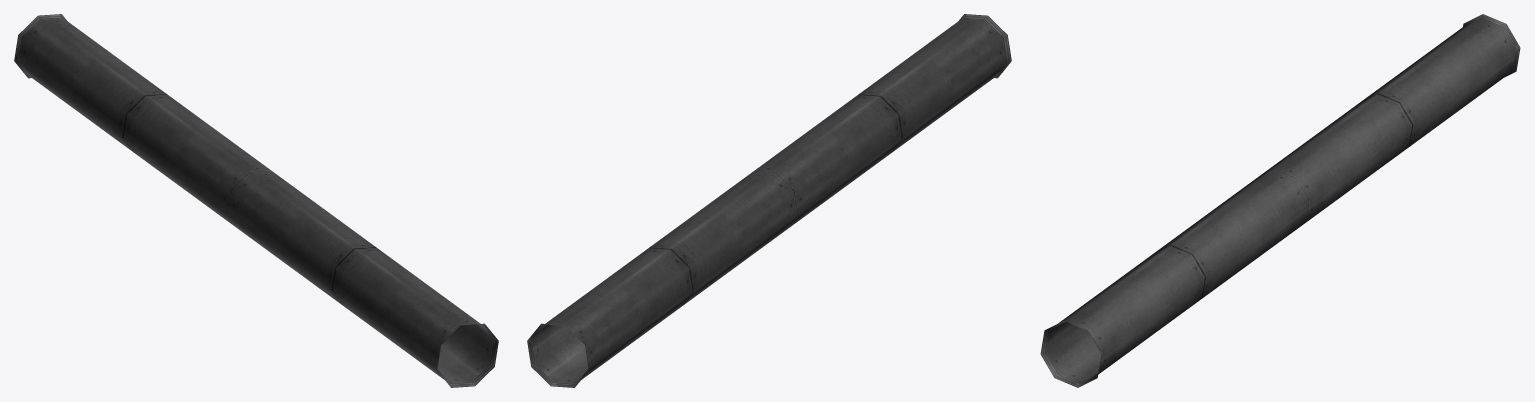
File: ControlRoom_Pipe_1.fbx
The picture shows the model from 3 angles, left to right: view 1: azimuth 30°, elevation 25°; view 2: azimuth 150°, elevation 25°; view 3: azimuth 330°, elevation 25°; orthographic projection.
Parts seen in each view (by area): view 1: ControlRoom_Pipe_1; view 2: ControlRoom_Pipe_1; view 3: ControlRoom_Pipe_1.
Part boxes in pixels (x1,y1,x2,y2): ControlRoom_Pipe_1: [14, 14, 498, 387]; ControlRoom_Pipe_1: [527, 14, 1011, 387]; ControlRoom_Pipe_1: [1040, 14, 1520, 387].
Bounding box in the file's own units: 0.4713 × 0.4713 × 5.6.
